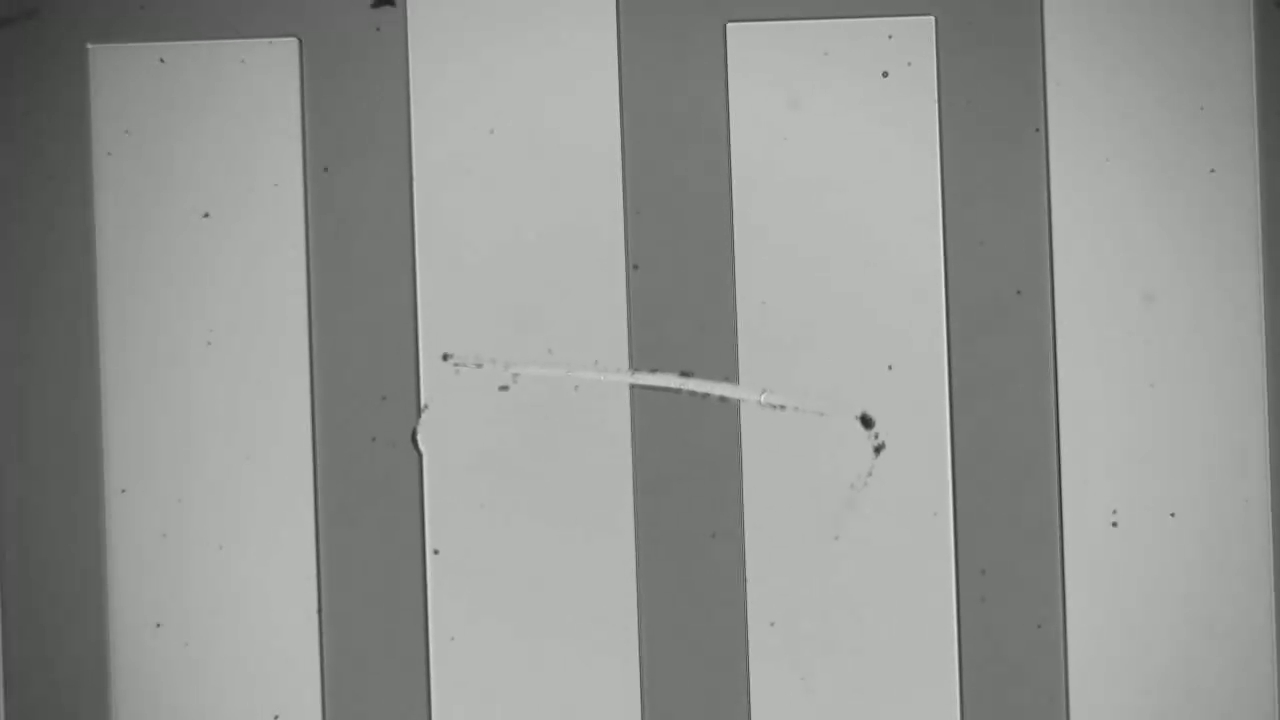Short_circuit: (609, 344, 770, 415)
